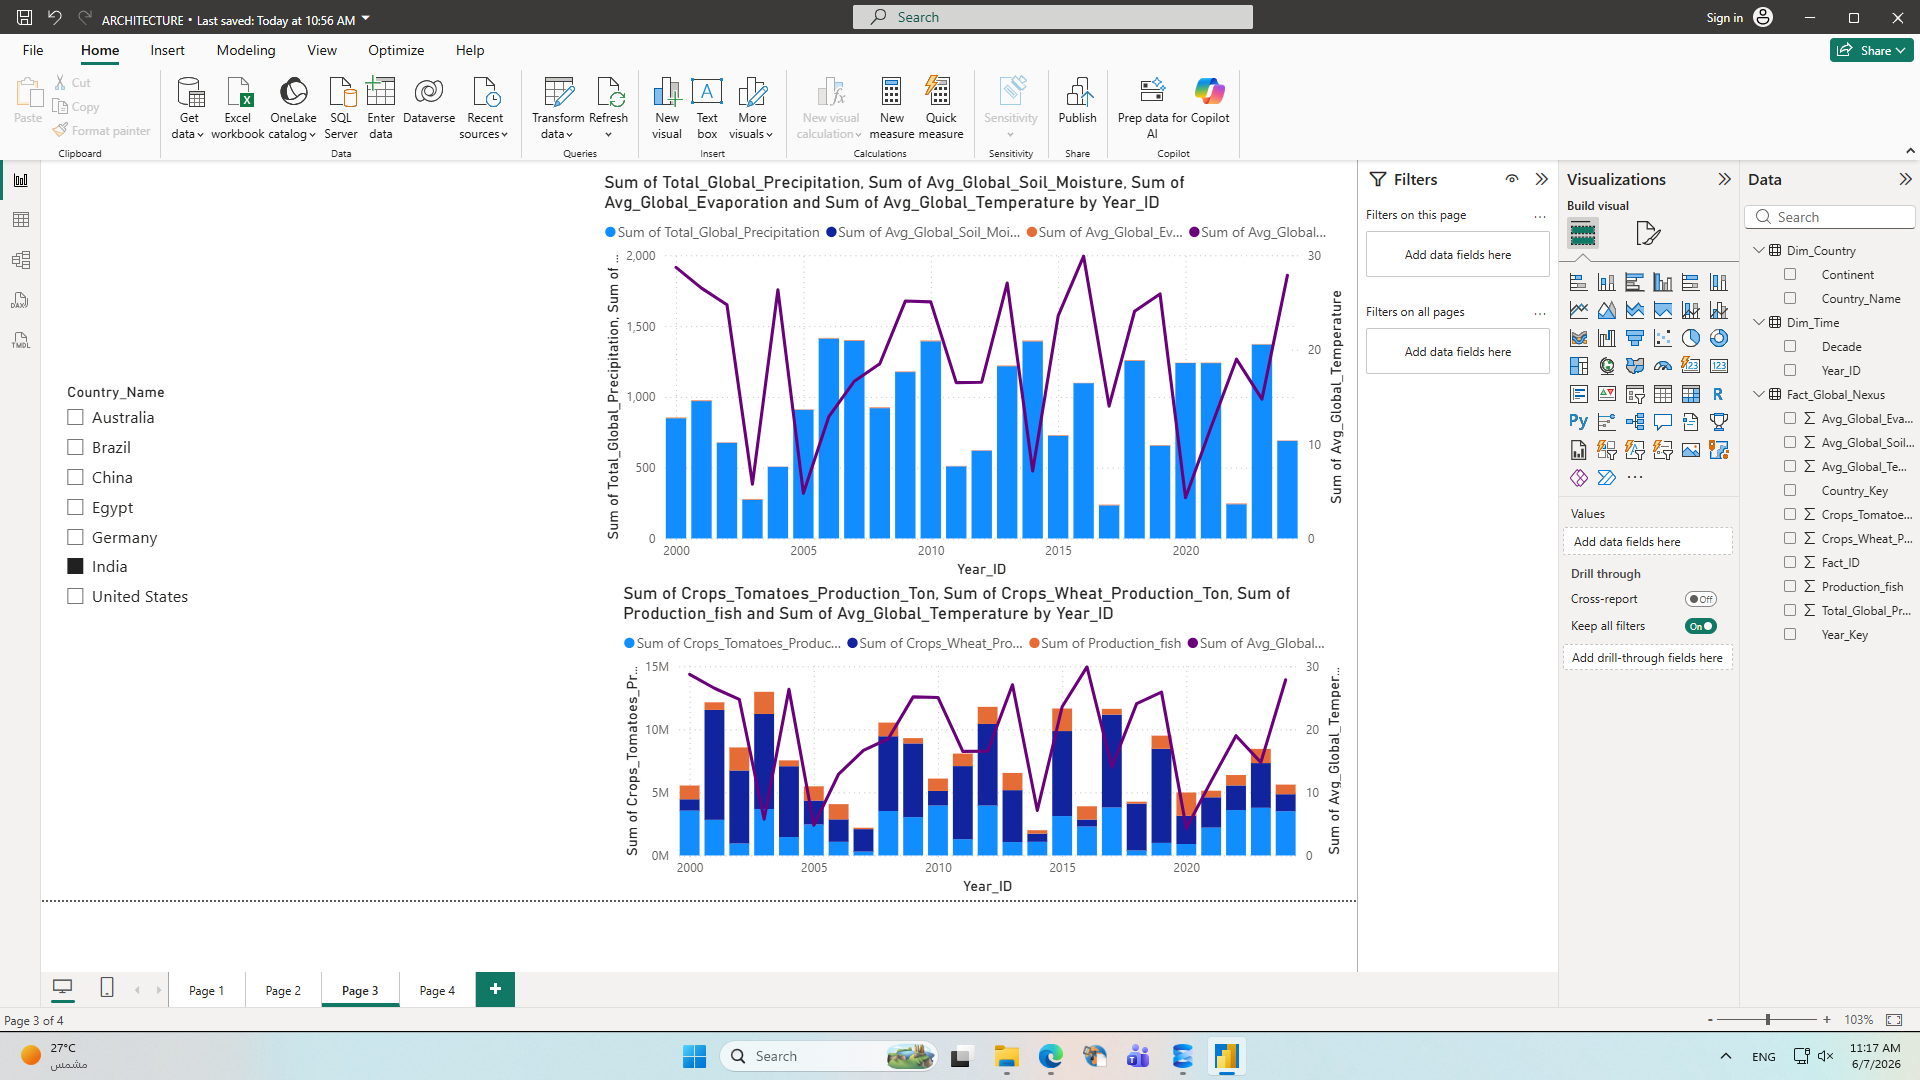

The dashboard page shown, as its layout file describes it:
{"tool":"powerbi","page":{"name":"Page 3","canvas":[1280,720],"ordinal":2},"visuals":[{"type":"lineStackedColumnComboChart","fields":{"Category":["Dim_Time.Year_ID"],"Y":["Sum(Fact_Global_Nexus.Total_Global_Precipitation)","Sum(Fact_Global_Nexus.Avg_Global_Soil_Moisture)","Sum(Fact_Global_Nexus.Avg_Global_Evaporation)"],"Y2":["Sum(Fact_Global_Nexus.Avg_Global_Temperature)"]},"box":[542.7,11.7,728.5,399.8],"z":0},{"type":"slicer","fields":{"Values":["Dim_Country.Country_Name"]},"box":[12.6,212,518.4,273.3],"z":1000},{"type":"lineStackedColumnComboChart","fields":{"Category":["Dim_Time.Year_ID"],"Y":["Sum(Fact_Global_Nexus.Crops_Tomatoes_Production_Ton)","Sum(Fact_Global_Nexus.Crops_Wheat_Production_Ton)","Sum(Fact_Global_Nexus.Production_MT)"],"Y2":["Sum(Fact_Global_Nexus.Avg_Global_Temperature)"]},"box":[561.2,411.4,708.1,308.3],"z":2000}]}

Visuals, with their boxes on the page's 1280x720 design canvas (x1, y1, x2, y2). These are canvas units, not pixel positions in the 1920x1080 screenshot, which may show the page scaled, cropped or inside an application window:
lineStackedColumnComboChart - Dim_Time.Year_ID x Sum(Fact_Global_Nexus.Total_Global_Precipitation): box=[543, 12, 1271, 412]
slicer - Dim_Country.Country_Name: box=[13, 212, 531, 485]
lineStackedColumnComboChart - Dim_Time.Year_ID x Sum(Fact_Global_Nexus.Crops_Tomatoes_Production_Ton): box=[561, 411, 1269, 720]
